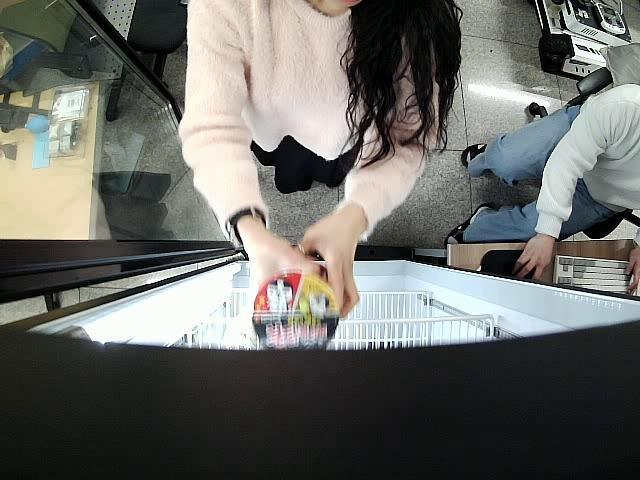08_buldak_S: (253, 271, 341, 352)
